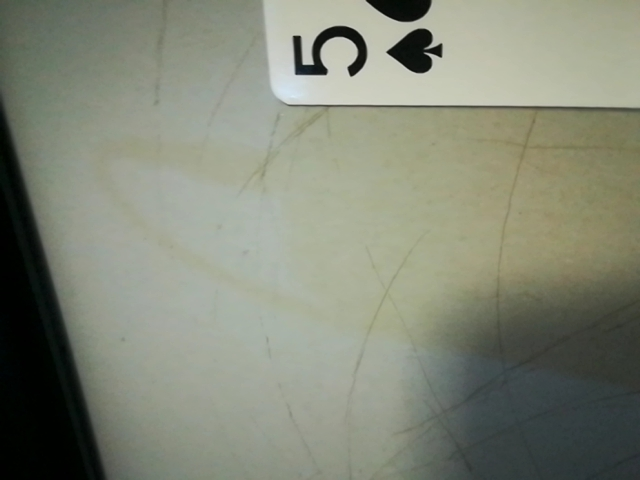ht 5: (285, 1, 456, 99)
